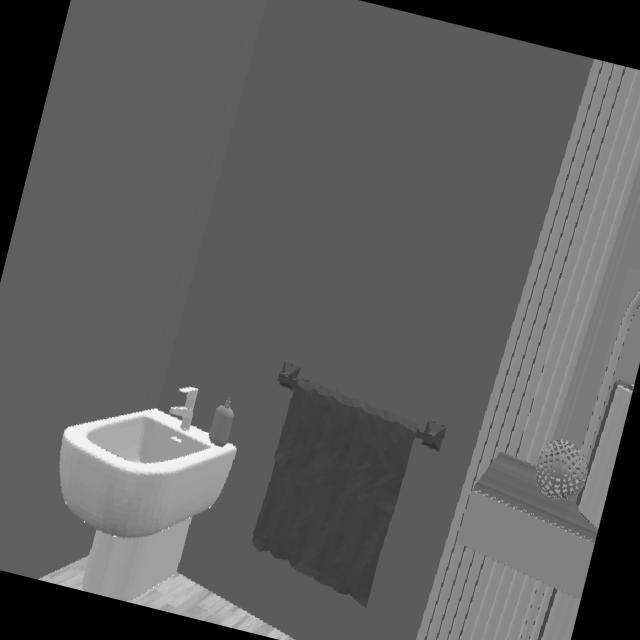washbasin: (578, 290, 640, 530)
